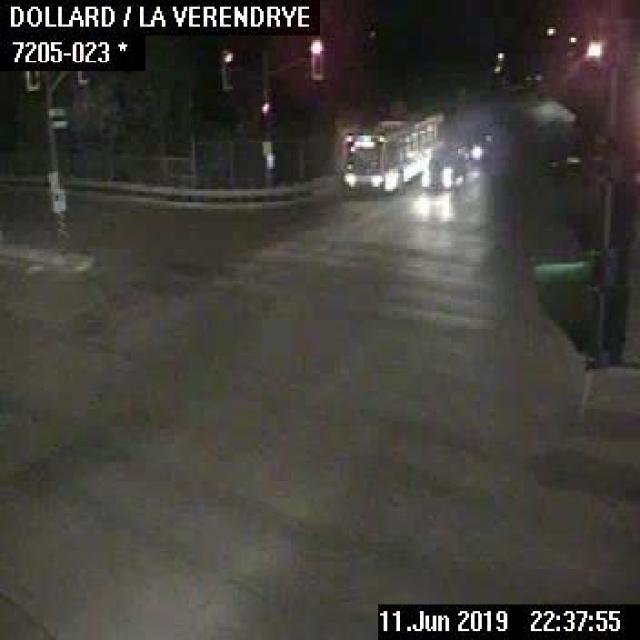bus: (338, 106, 441, 196)
vehicle: (418, 150, 466, 193), (454, 135, 484, 164)
